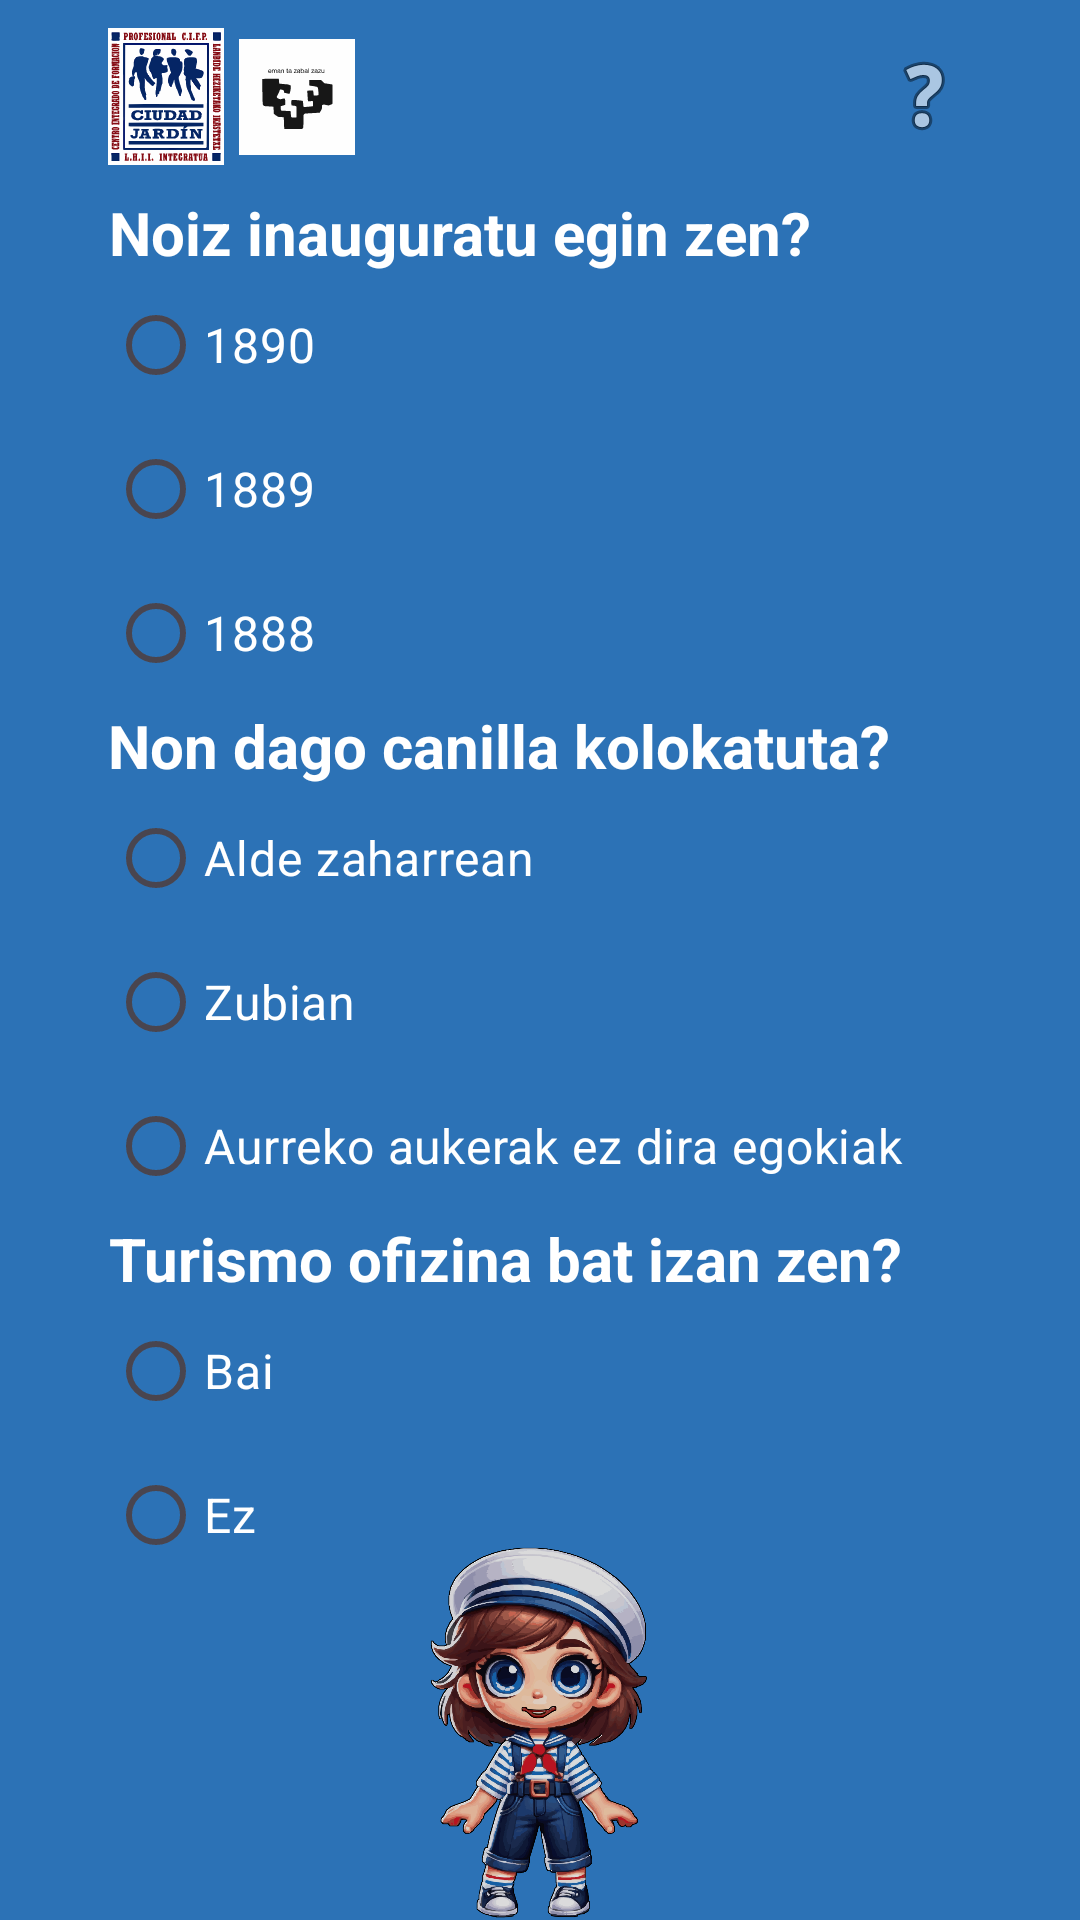

Icons on this 1080 × 1920 Android screen, each with its box as (x1, y1, x2, y2):
help: (903, 62, 945, 130)
